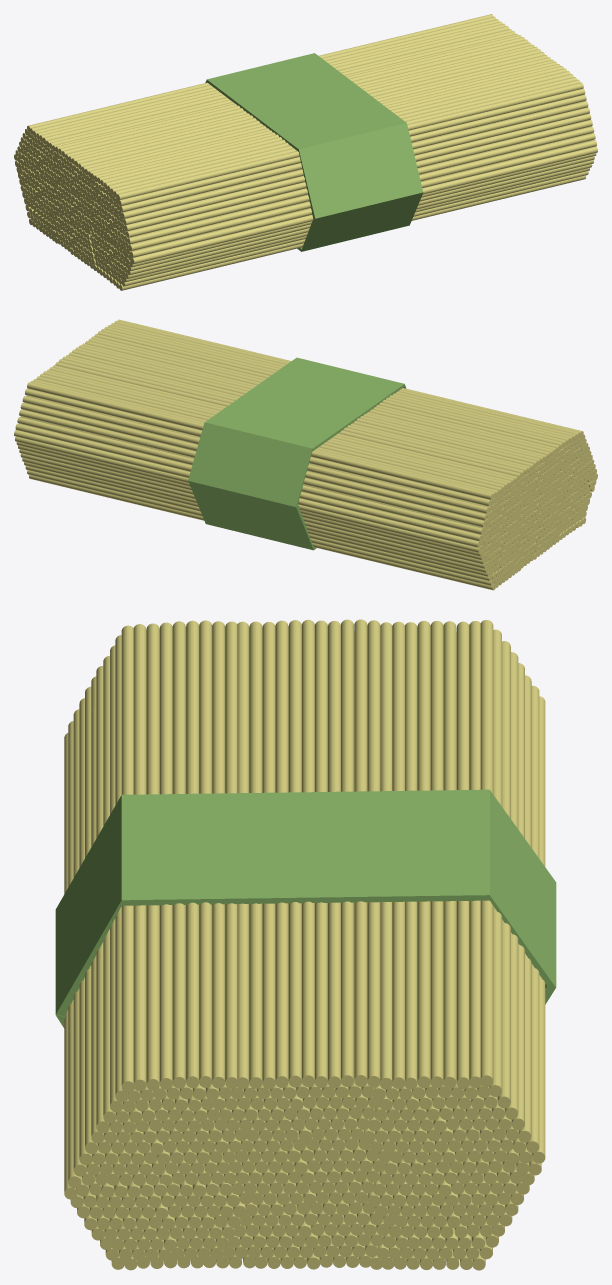
File: pasta joined.fbx
3 views of the same model, one above another, from view 1: azimuth 30°, elevation 25°; view 2: azimuth 150°, elevation 25°; view 3: azimuth 270°, elevation 25° (orthographic). The views are drawn at different scales.
Parts seen in each view (by area): view 1: Cube; view 2: Cube; view 3: Cube.
Part boxes in pixels (left/top/right/bottom): Cube: left=14, top=14, right=597, bottom=290; Cube: left=14, top=319, right=597, bottom=590; Cube: left=55, top=619, right=556, bottom=1270.
Bounding box in the file's own units: 20 × 4.24 × 9.33.
